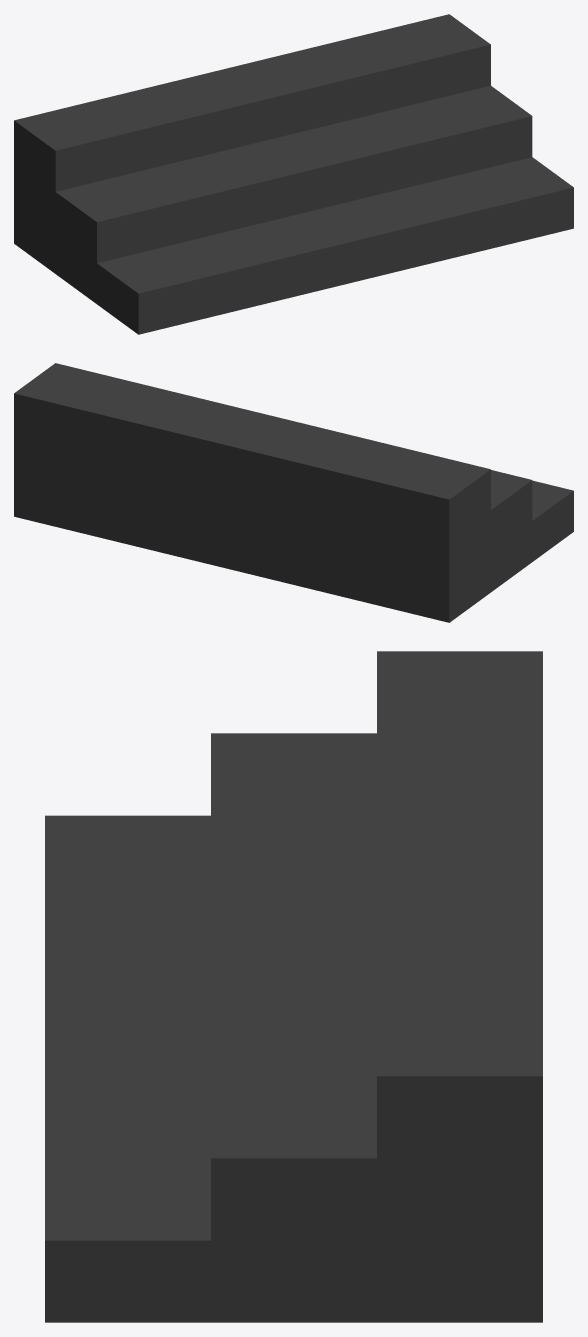
File: Stairs_039.glb
3 renders of one model, top to bottom at view 1: azimuth 30°, elevation 25°; view 2: azimuth 150°, elevation 25°; view 3: azimuth 270°, elevation 25°, orthographic. The views are drawn at different scales.
Visible parts, largest first — view 1: Stairs_039; view 2: Stairs_039; view 3: Stairs_039.
Boxes of the visible parts, x1,y1,x2,y2 form: Stairs_039: (14,14,573,334); Stairs_039: (14,363,573,622); Stairs_039: (45,651,542,1322).
Size of the model in its own units: 1.62 by 0.4382 by 0.8027.
Materials: 1 (1 with a texture image).
